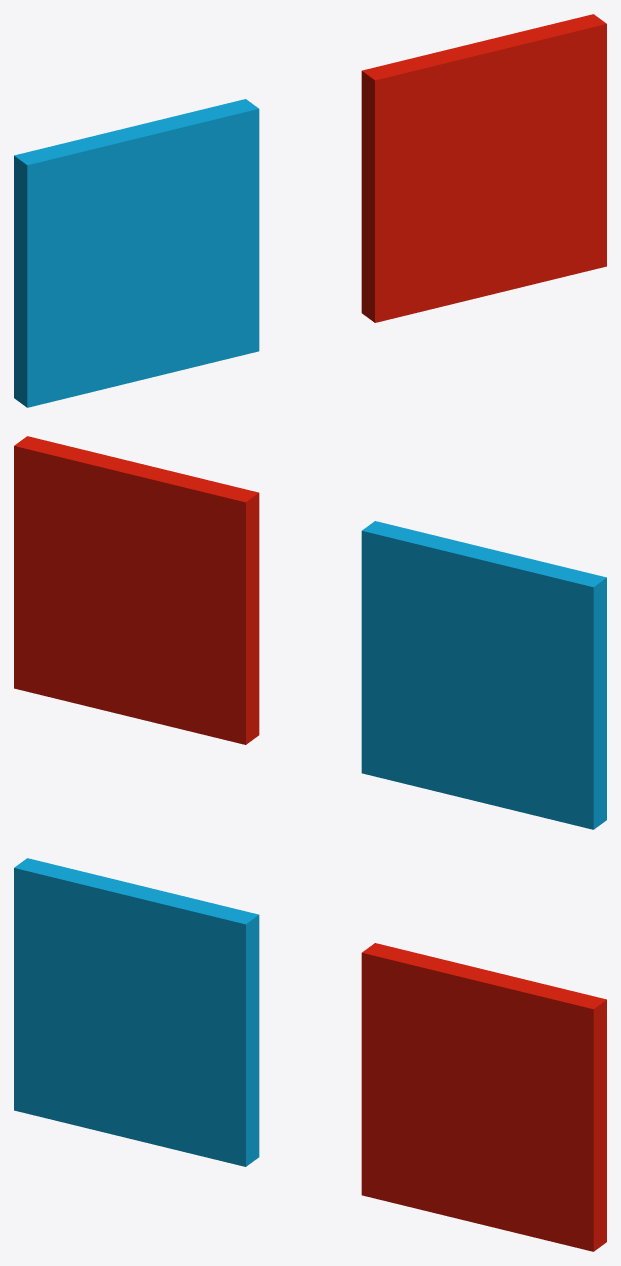
File: main.fbx
3 views of the same model, one above another, from view 1: azimuth 30°, elevation 25°; view 2: azimuth 150°, elevation 25°; view 3: azimuth 330°, elevation 25° (orthographic).
Parts seen in each view (by area): view 1: Cube, Cube.001; view 2: Cube, Cube.001; view 3: Cube, Cube.001.
Part boxes in pixels (x1,y1,x2,y2): Cube: (361,14,606,322); Cube.001: (14,99,259,407); Cube: (14,436,259,744); Cube.001: (361,521,606,829); Cube: (361,943,606,1251); Cube.001: (14,858,259,1166).
Size of the model in its own units: 500 by 200 by 20.
